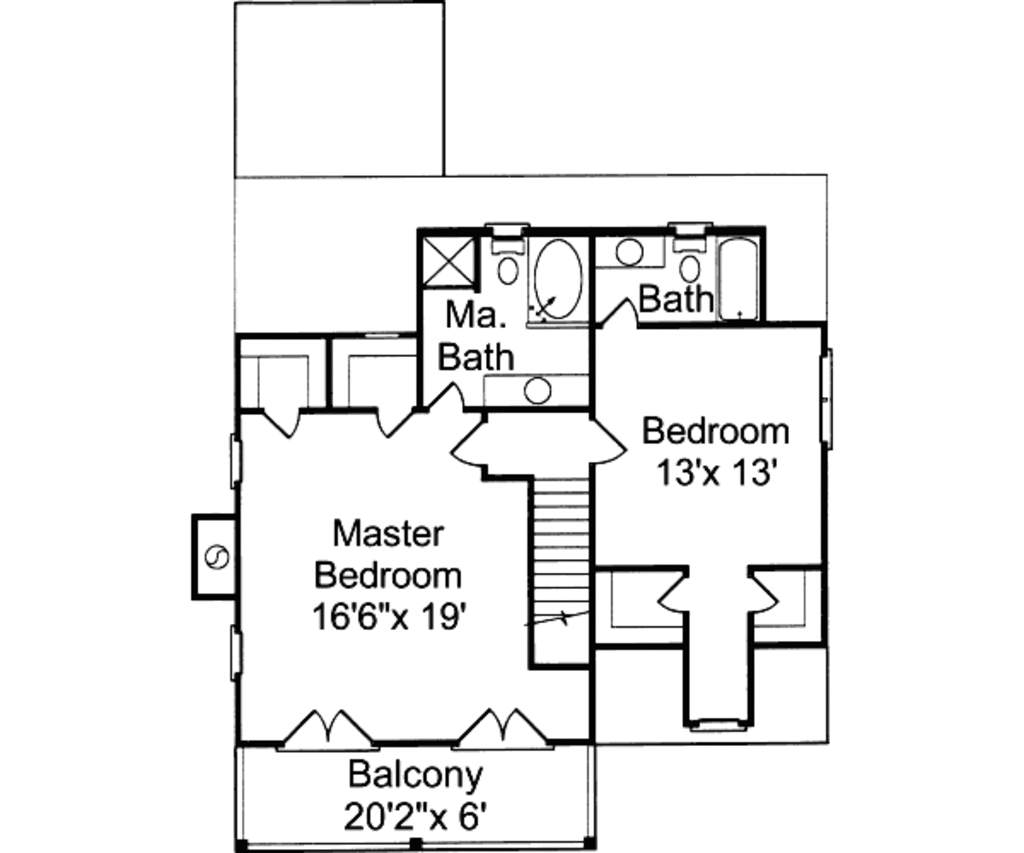door: (450, 704, 551, 752), (276, 706, 380, 752), (588, 418, 629, 468), (445, 419, 485, 468), (261, 405, 301, 445), (660, 577, 693, 620), (375, 404, 412, 442), (598, 300, 639, 334), (747, 575, 779, 613), (429, 384, 464, 413)
large_sink: (487, 234, 527, 287), (670, 234, 710, 285)
small_sink: (484, 373, 588, 408), (595, 234, 669, 274)
stairs: (527, 468, 593, 670)
tub: (527, 231, 585, 327), (714, 235, 762, 321)
windows: (816, 349, 839, 450), (225, 432, 248, 491), (228, 624, 249, 685), (689, 716, 743, 735)
